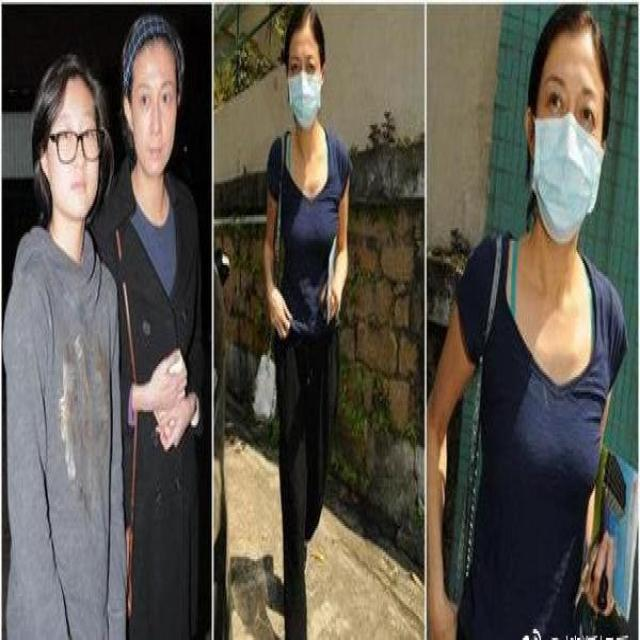mask: (535, 48, 604, 246), (288, 34, 322, 128)
nomask: (49, 91, 98, 216), (130, 59, 176, 169)
